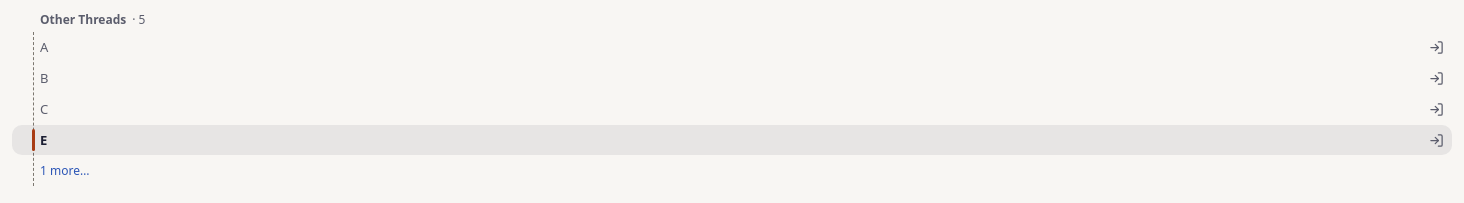
Scenario: ThreadList › shows the open one past the first few, while folded, and when the listing left it out
Check: the button with test id "more-threads" reads "1 more…", box [12,156,1452,186]
Click the button with test id "other-threads" at (95, 20), box [40,10,150,30]
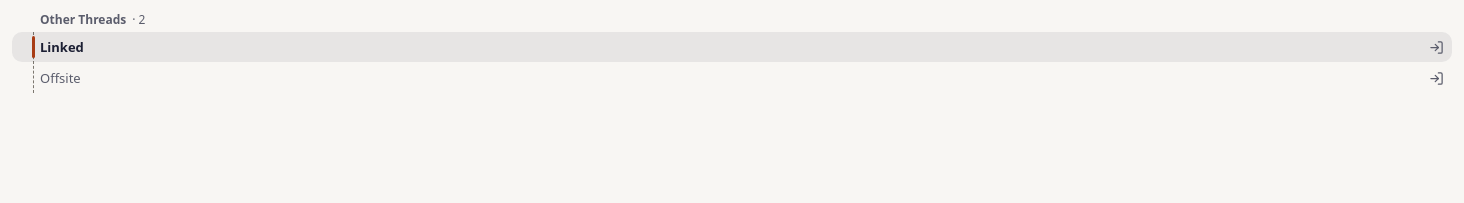
Check: the button with test id "more-threads" is gone
Check: the button with test id "other-threads" shows "2", box [40,10,150,30]
